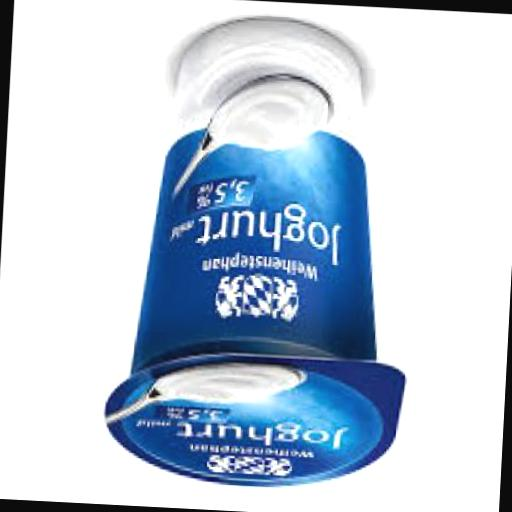plastic: (102, 10, 424, 496)
